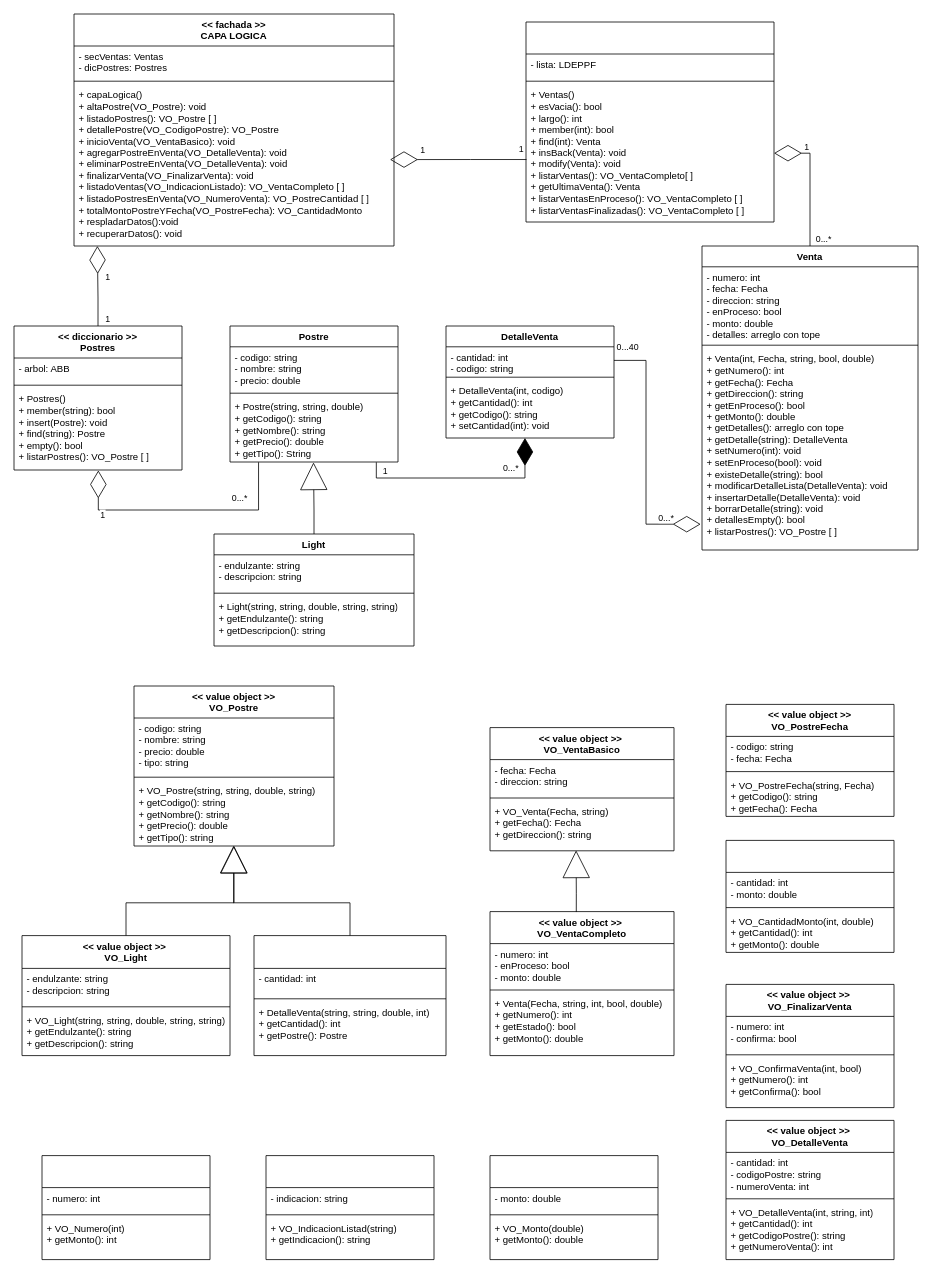
Some shapes in this 932 by 1276 pixel diagram are drawn without their labels. Here are the shapes that lost their labels. From the top down, the box of each, then its label:
(525, 21, 774, 222): << secuencia >> Ventas
(725, 840, 894, 952): << value object >> VO_CantidadMonto
(253, 935, 446, 1056): << value object >> VO_PostreCantidad
(41, 1155, 210, 1260): << value object >> VO_NumeroVenta
(265, 1155, 434, 1260): << value object >> VO_IndicacionListado
(489, 1155, 658, 1260): << value object >> VO_Monto
